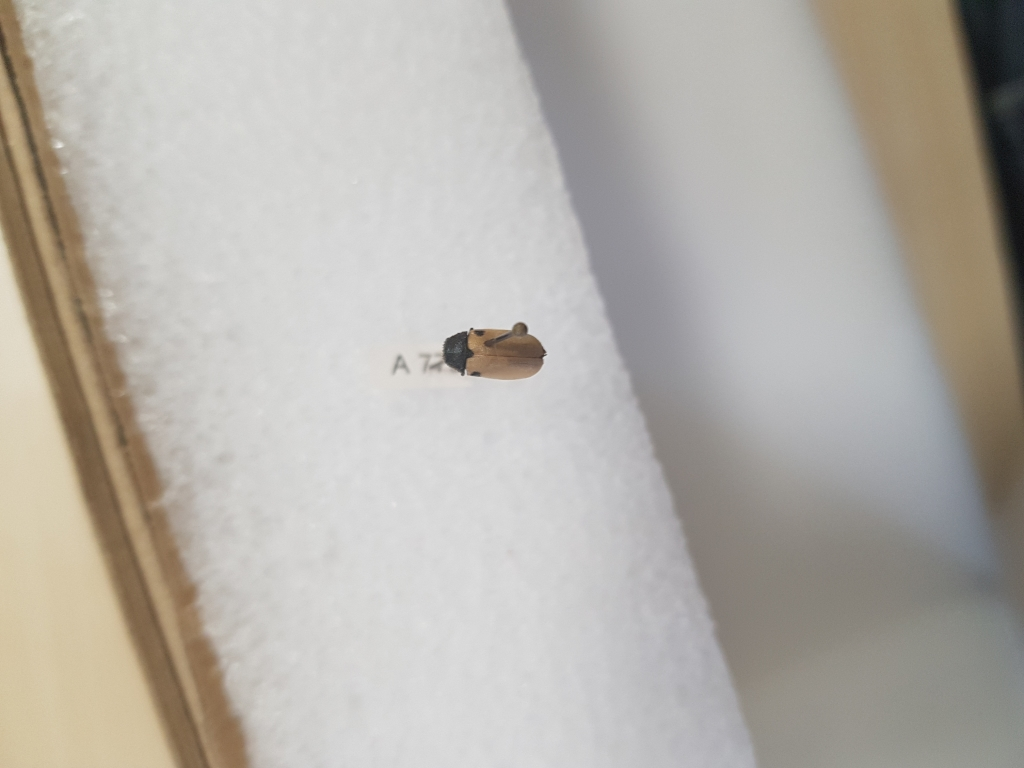Labidostomis_propinqua: (442, 321, 546, 381)
